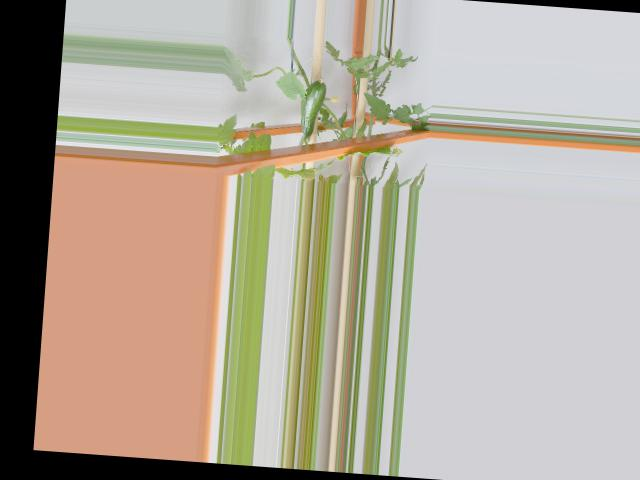cucumber: (299, 74, 327, 136)
